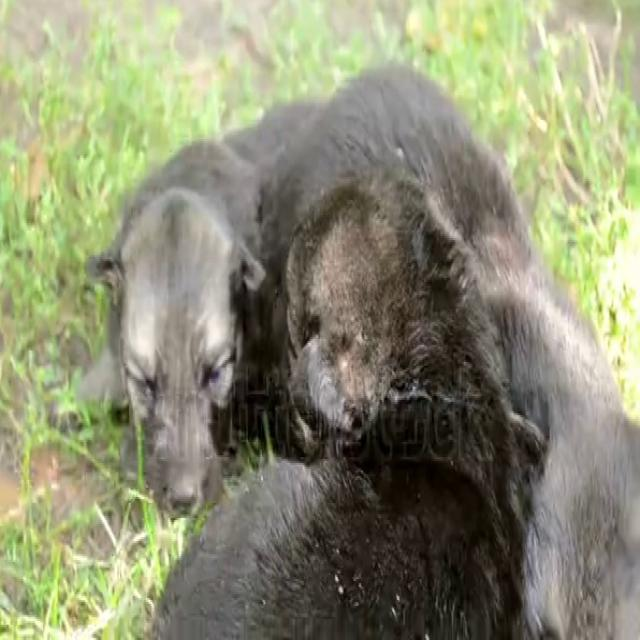normal_animals: (75, 57, 636, 634)
